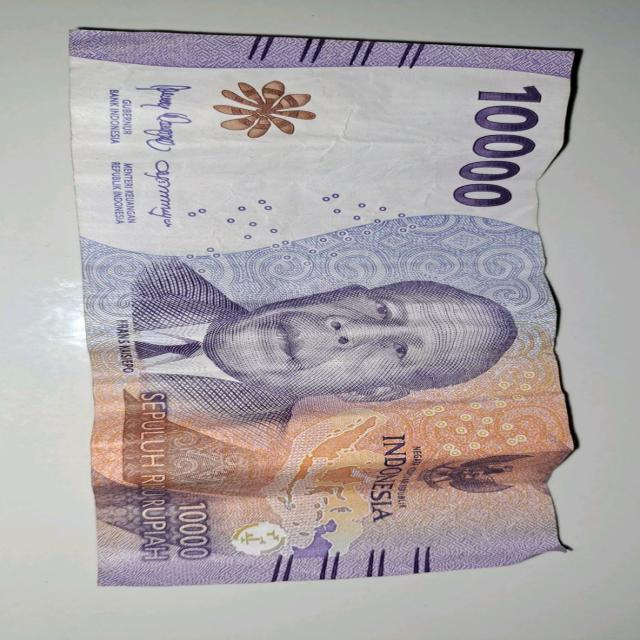sepuluh ribu rupiah: (52, 18, 577, 594)
